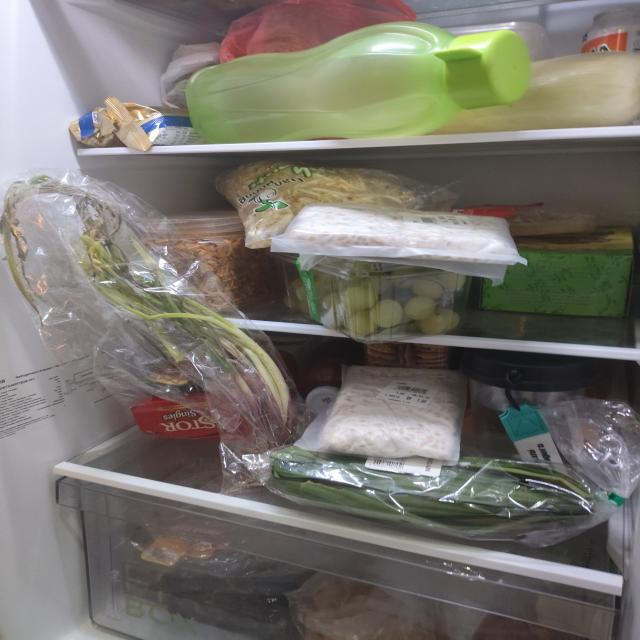bean_sprouts: (214, 159, 422, 249)
corn: (424, 50, 640, 136)
grape: (284, 259, 467, 336)
leafy_greens: (268, 445, 596, 535)
spring_onion: (0, 174, 296, 455)
tempeh: (272, 202, 518, 266), (319, 365, 469, 462)
